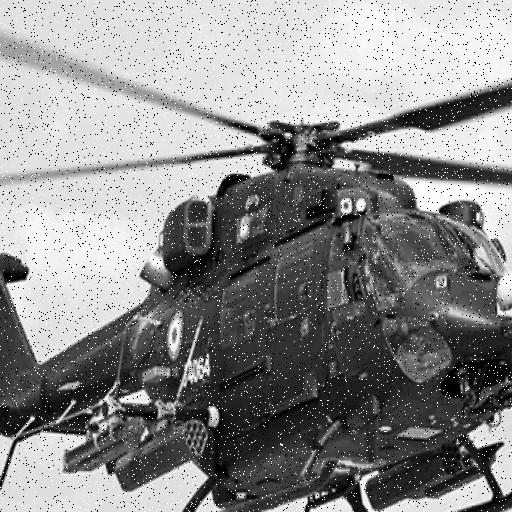helicopter: (1, 15, 512, 512)
